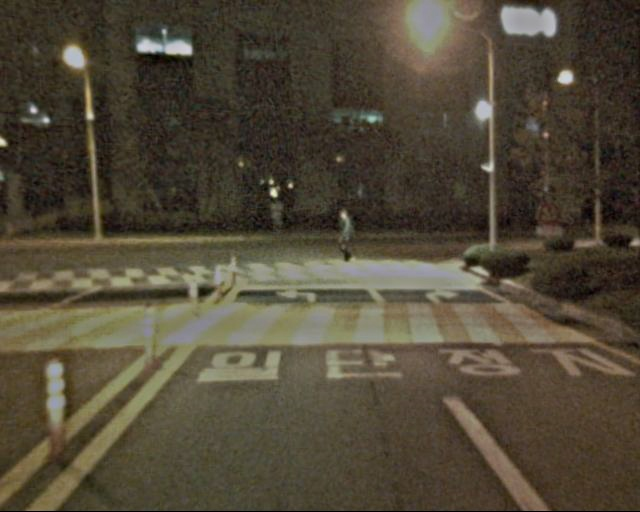person: (333, 205, 360, 272)
